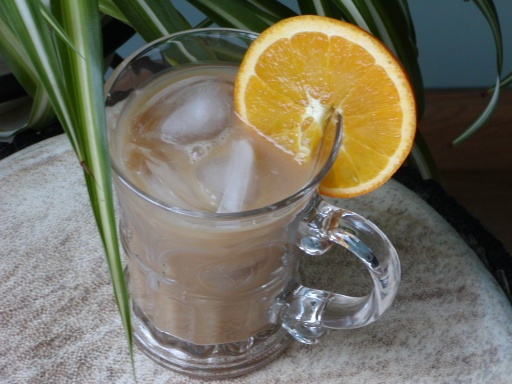background: (94, 8, 334, 206)
